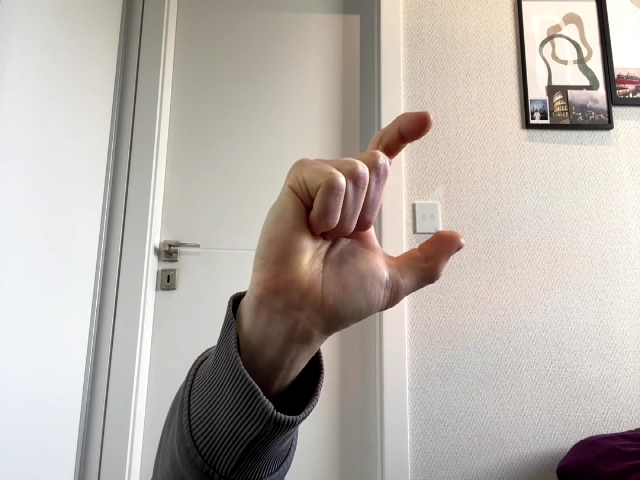C: (251, 111, 463, 335)
